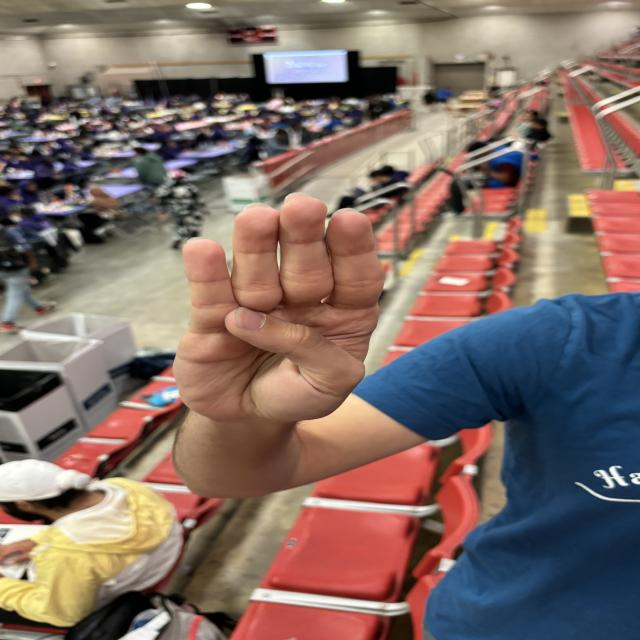B: (134, 188, 416, 430)
